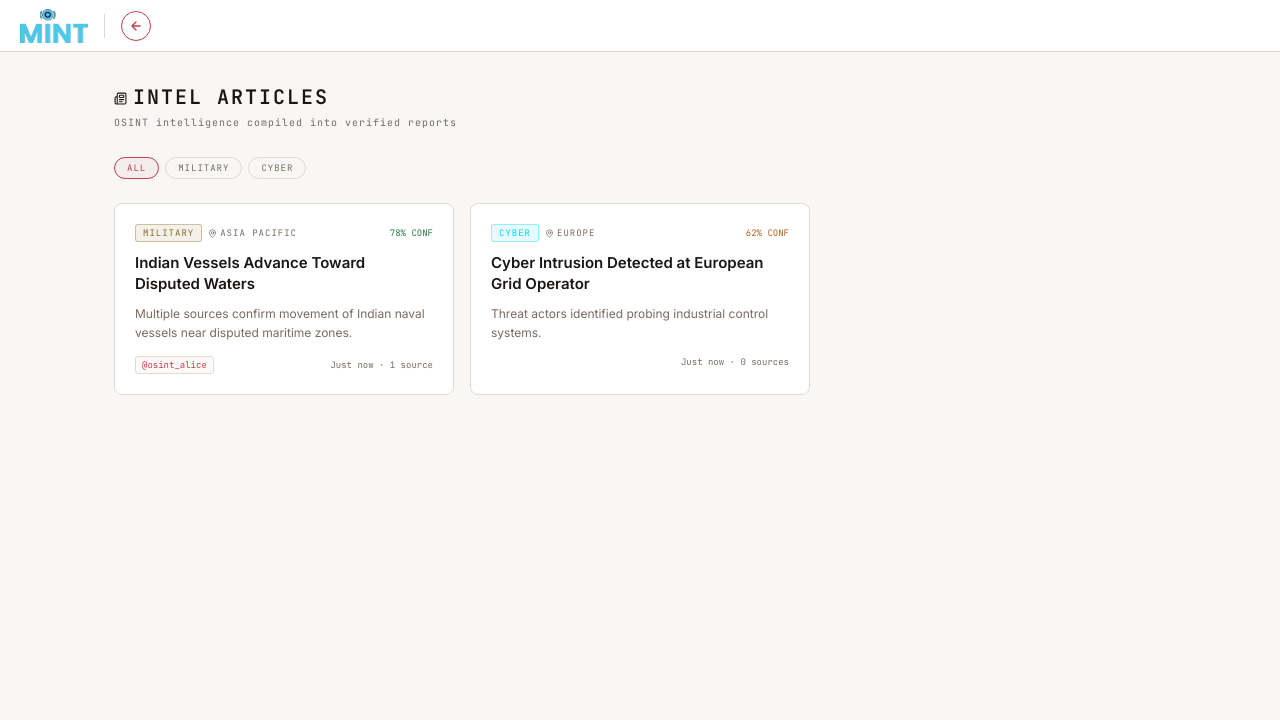
ArticlesPage › closes article detail when close button is clicked
This screenshot has width=1280, height=720.
What coordinates should you click on to do the following:
click the text "Indian Vessels Advance Toward Disputed Waters"
I would click on:
 (250, 273)
Its box is [135, 253, 365, 293].
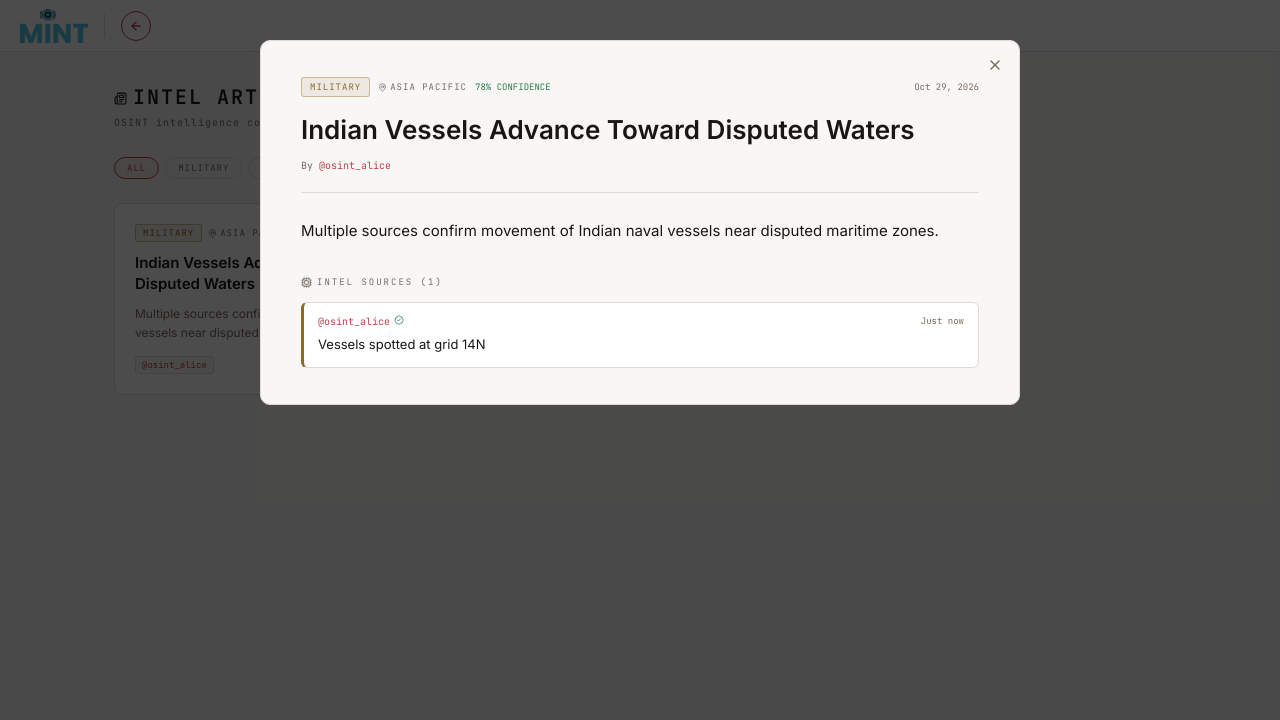
What coordinates should you click on to do the following:
click the button
I would click on:
 (995, 65)
Its box is [987, 57, 1003, 73].
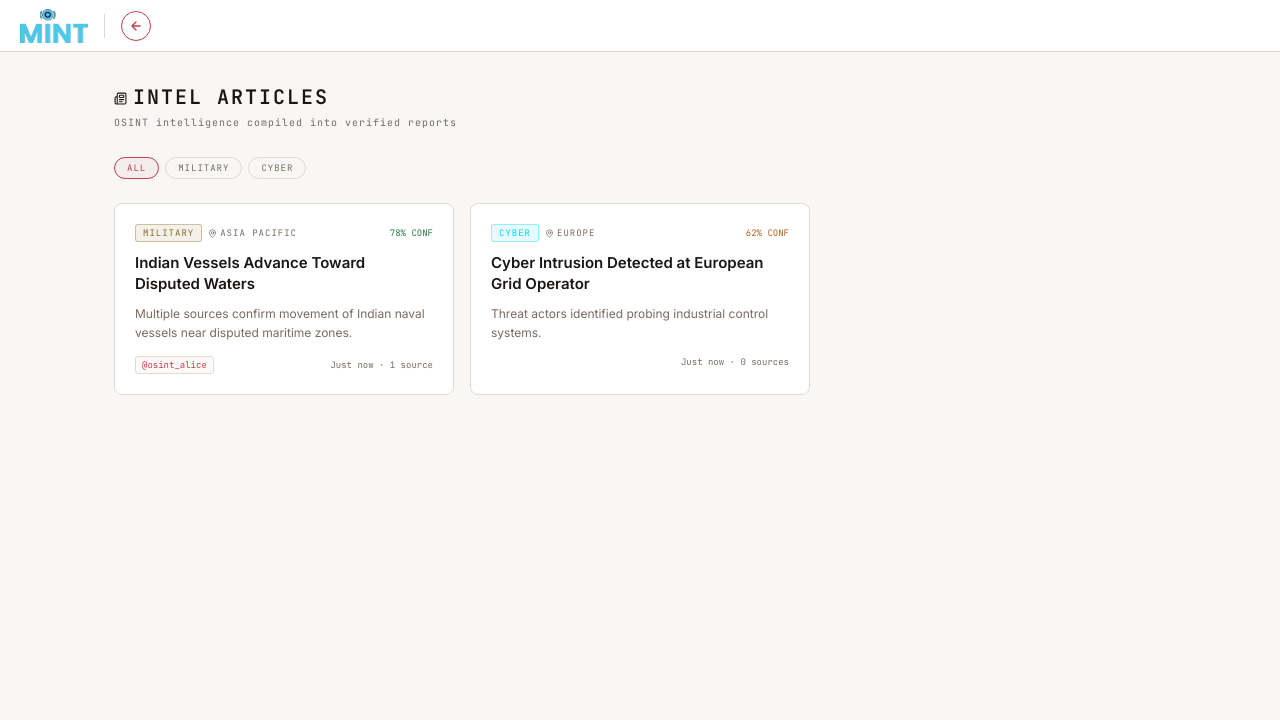
Check: the text "Vessels spotted at grid 14N" is gone
